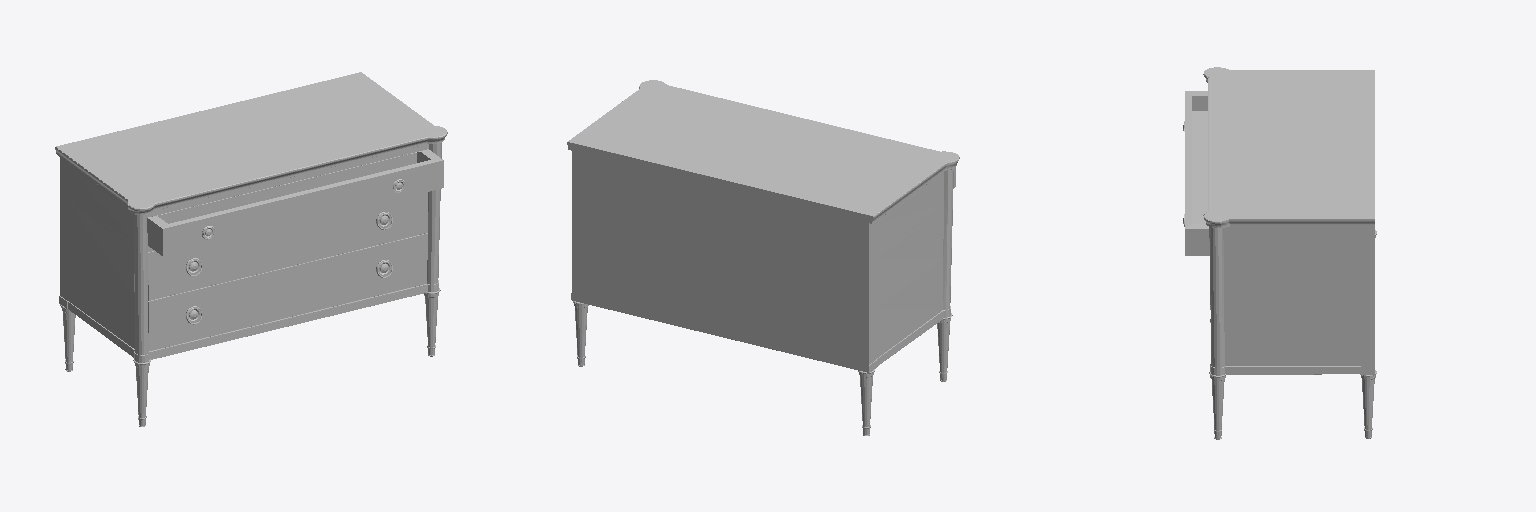
File: dresseropen.obj
3 renders of one model, left to right at view 1: azimuth 30°, elevation 25°; view 2: azimuth 150°, elevation 25°; view 3: azimuth 270°, elevation 25°, orthographic.
Visible parts, largest first — view 1: Cube.001; view 2: Cube.001; view 3: Cube.001.
Part boxes in pixels (x1,y1,x2,y2): Cube.001: (55,72,447,426); Cube.001: (567,80,959,435); Cube.001: (1183,67,1376,439).
Bounding box in the file's own units: 1.62 × 1.1 × 0.8622.